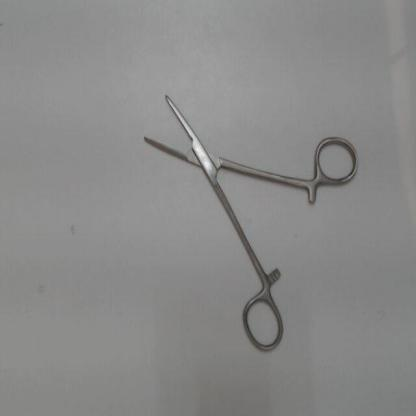Mayo Needle Holder: (131, 79, 363, 356)
